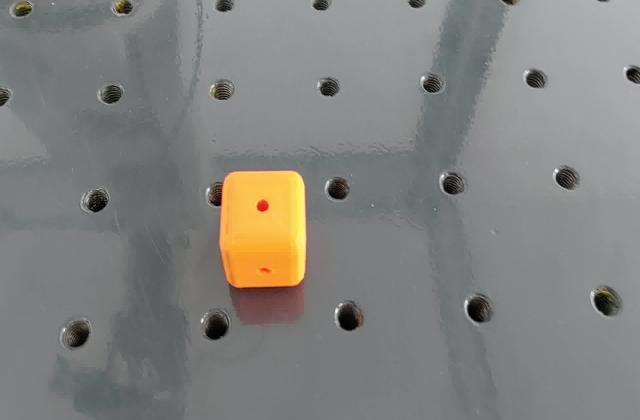cube: (218, 169, 310, 290)
